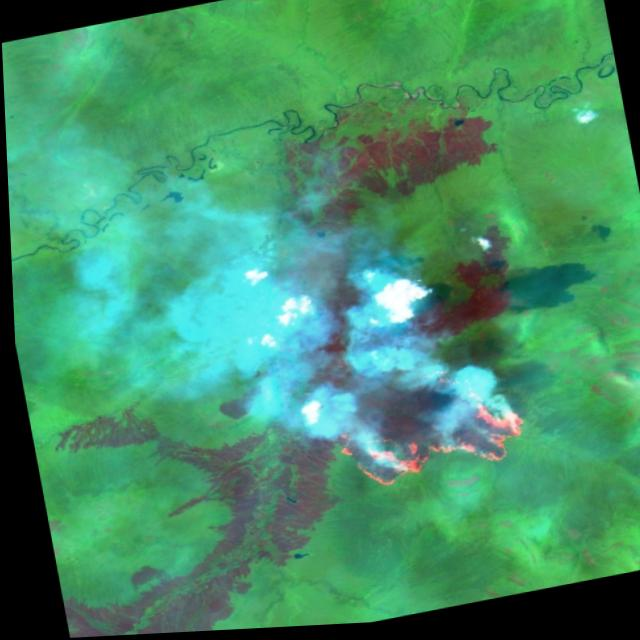fire: (310, 349, 539, 508)
